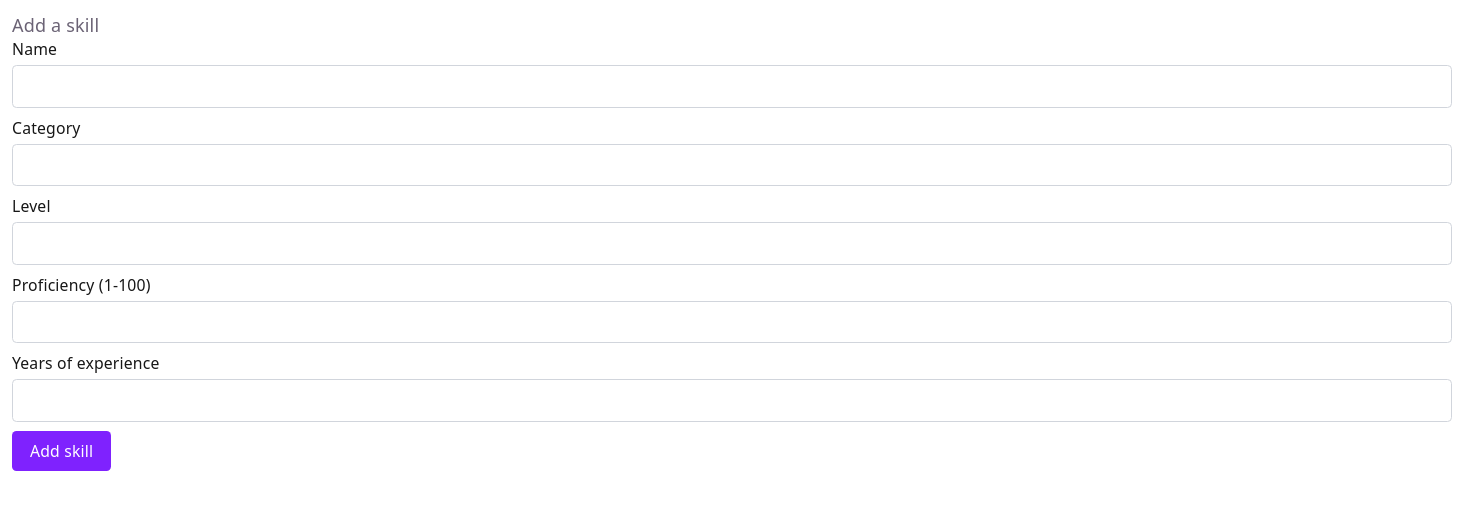
it: AddSkillForm › submits the skill to the backend and shows a success message
Step 1. Type "TypeScript" into the field labelled "Name" → (732, 86), box [12,65,1452,108]
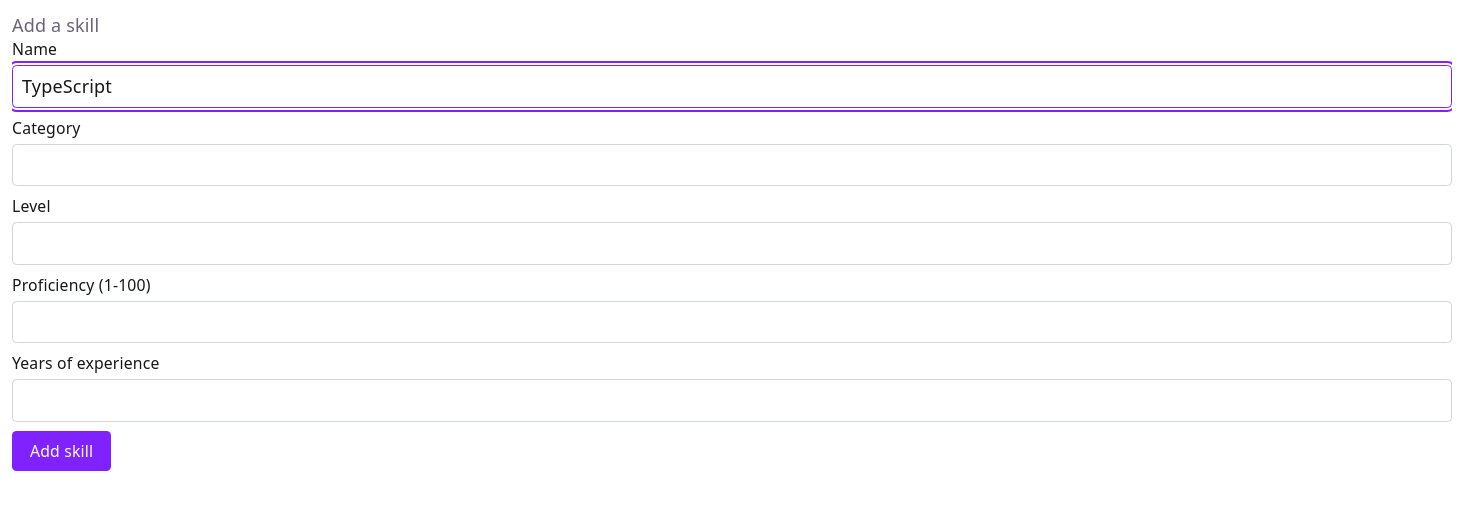
Step 2. Type "Languages" into the field labelled "Category" → (732, 165), box [12,144,1452,186]
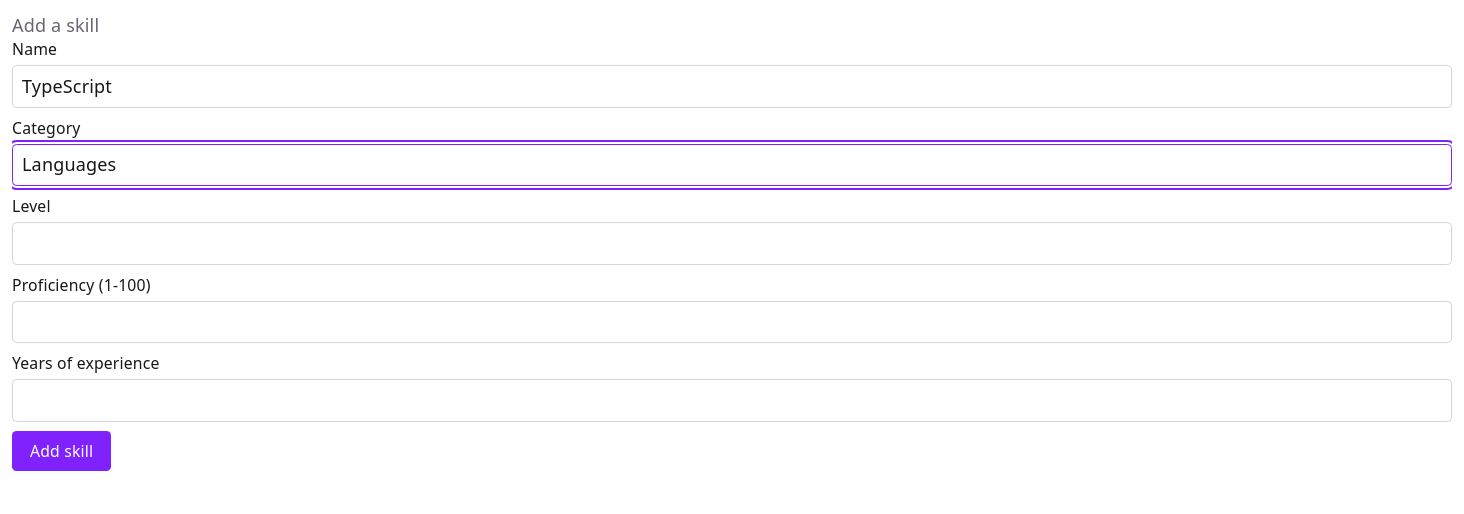
Step 3. Type "Expert" into the field labelled "Level" → (732, 243), box [12,222,1452,265]
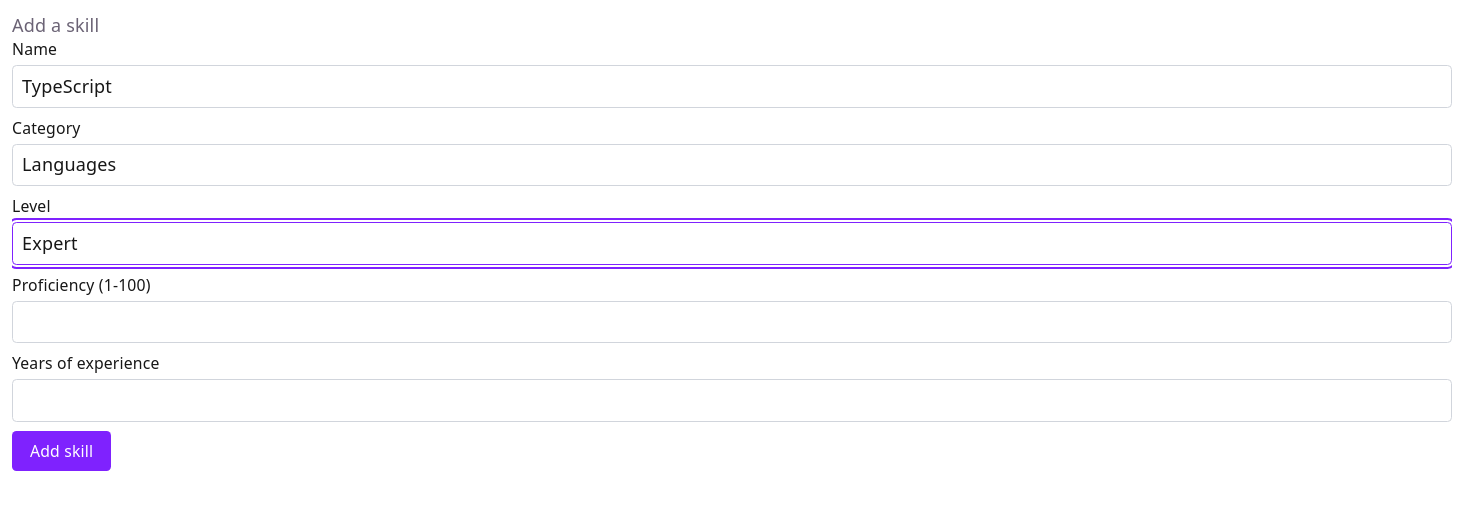
Step 4. Type "90" into the number field labelled "Proficiency (1-100)" → (732, 322), box [12,301,1452,343]
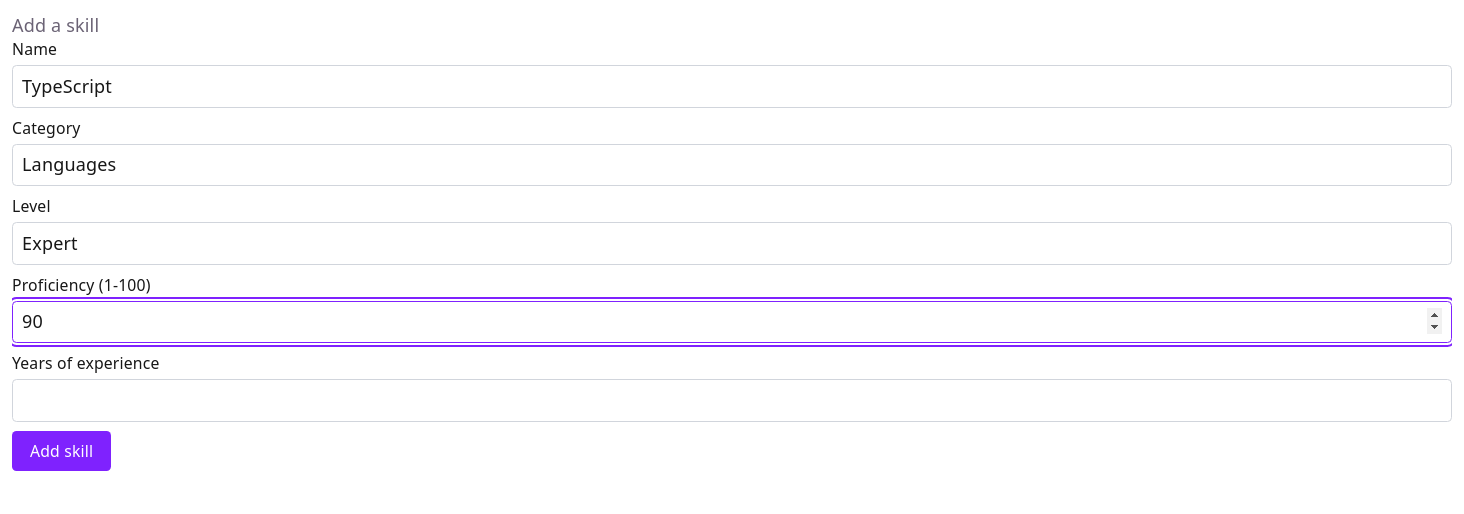
Step 5. Type "5" into the number field labelled "Years of experience" → (732, 400), box [12,379,1452,422]
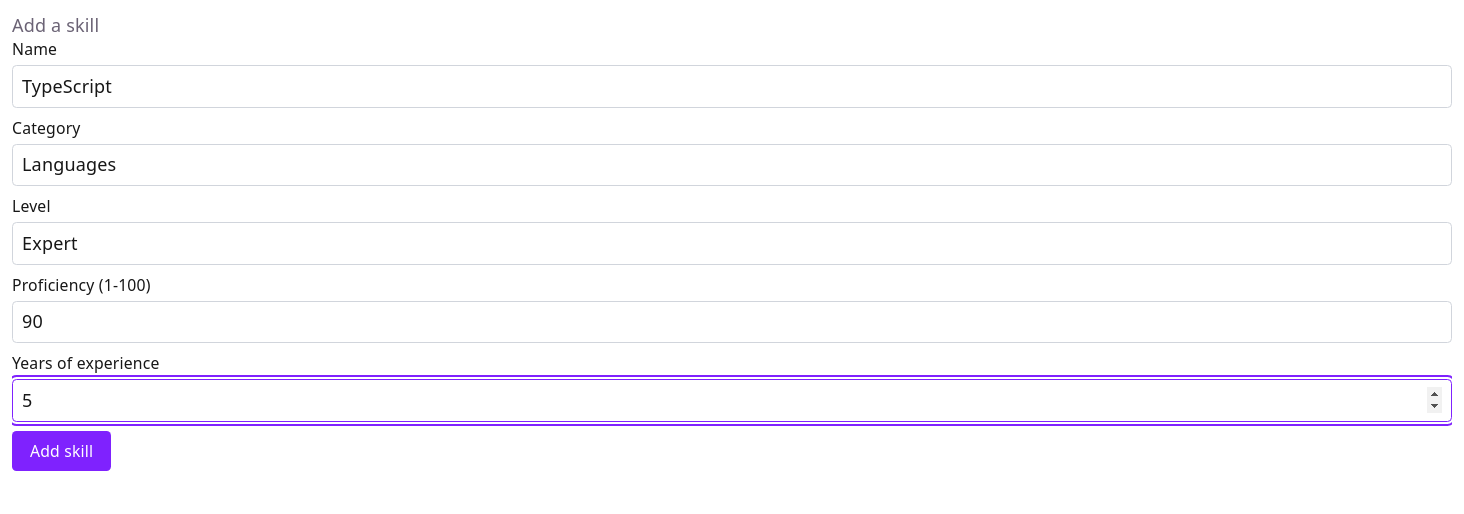
Step 6. Click the button "Add skill" → (62, 451), box [12,431,111,471]
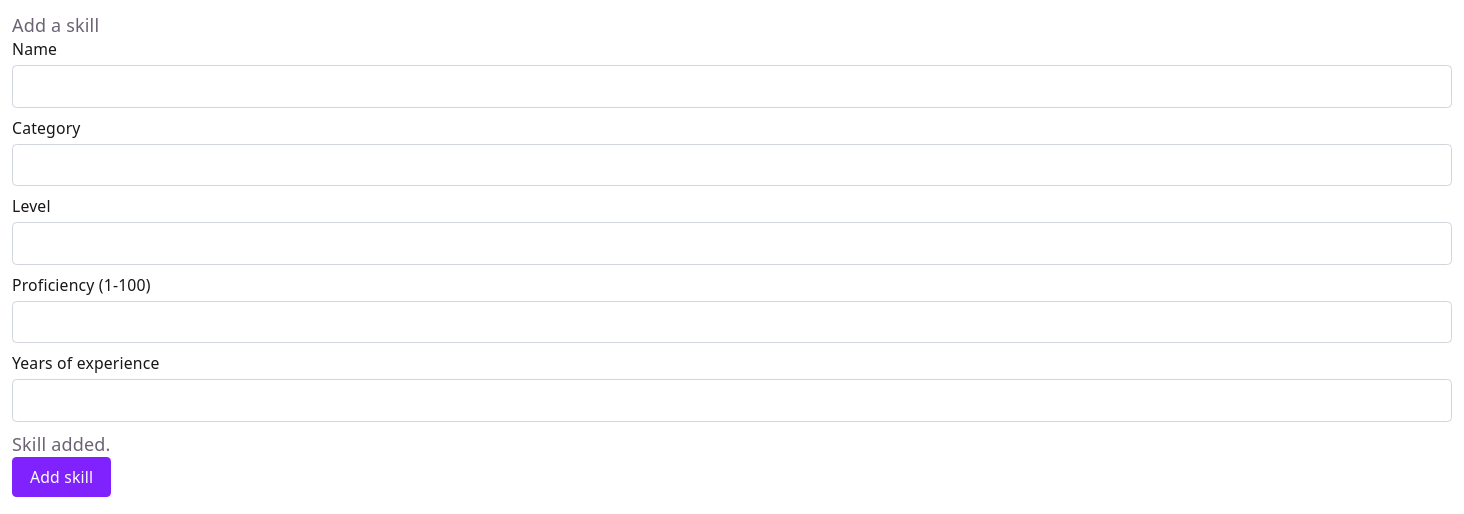
expect the message shows "added": met, box [12,432,111,456]
